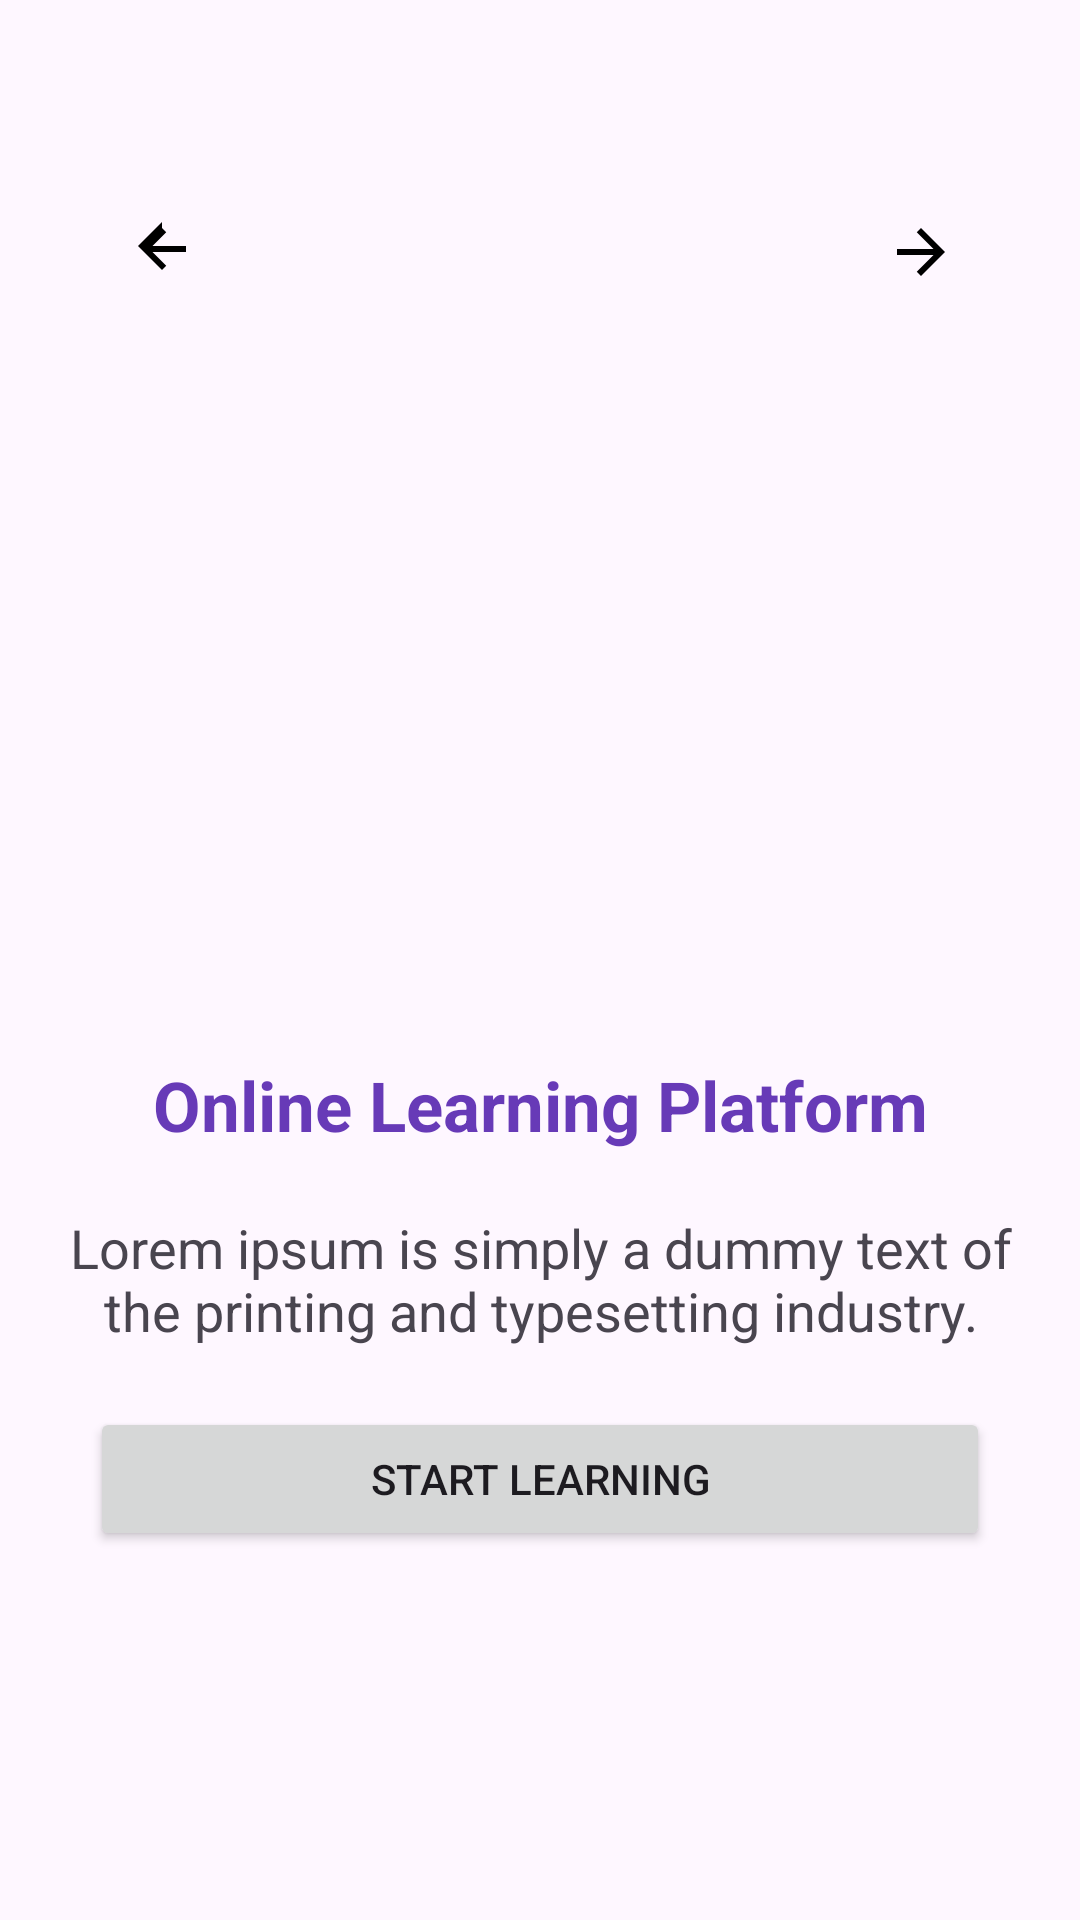

Point at icon controls on the screen. Image size 1080px×1920px, points as [x,y].
arrow left: [162,246]
arrow right: [921,252]
